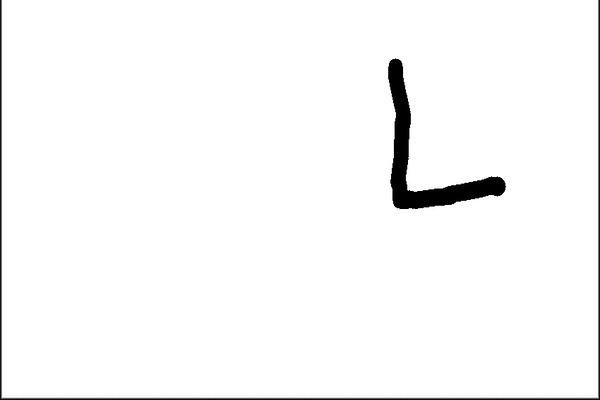L: (378, 50, 511, 214)
